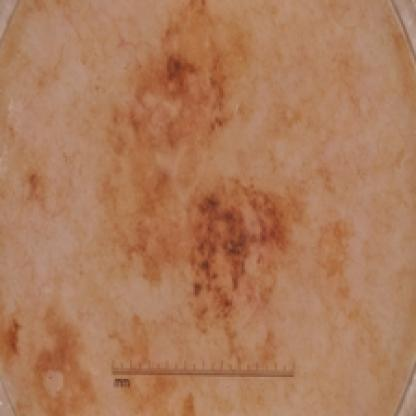Skin_Cancer-Malignant: (104, 0, 295, 337)
